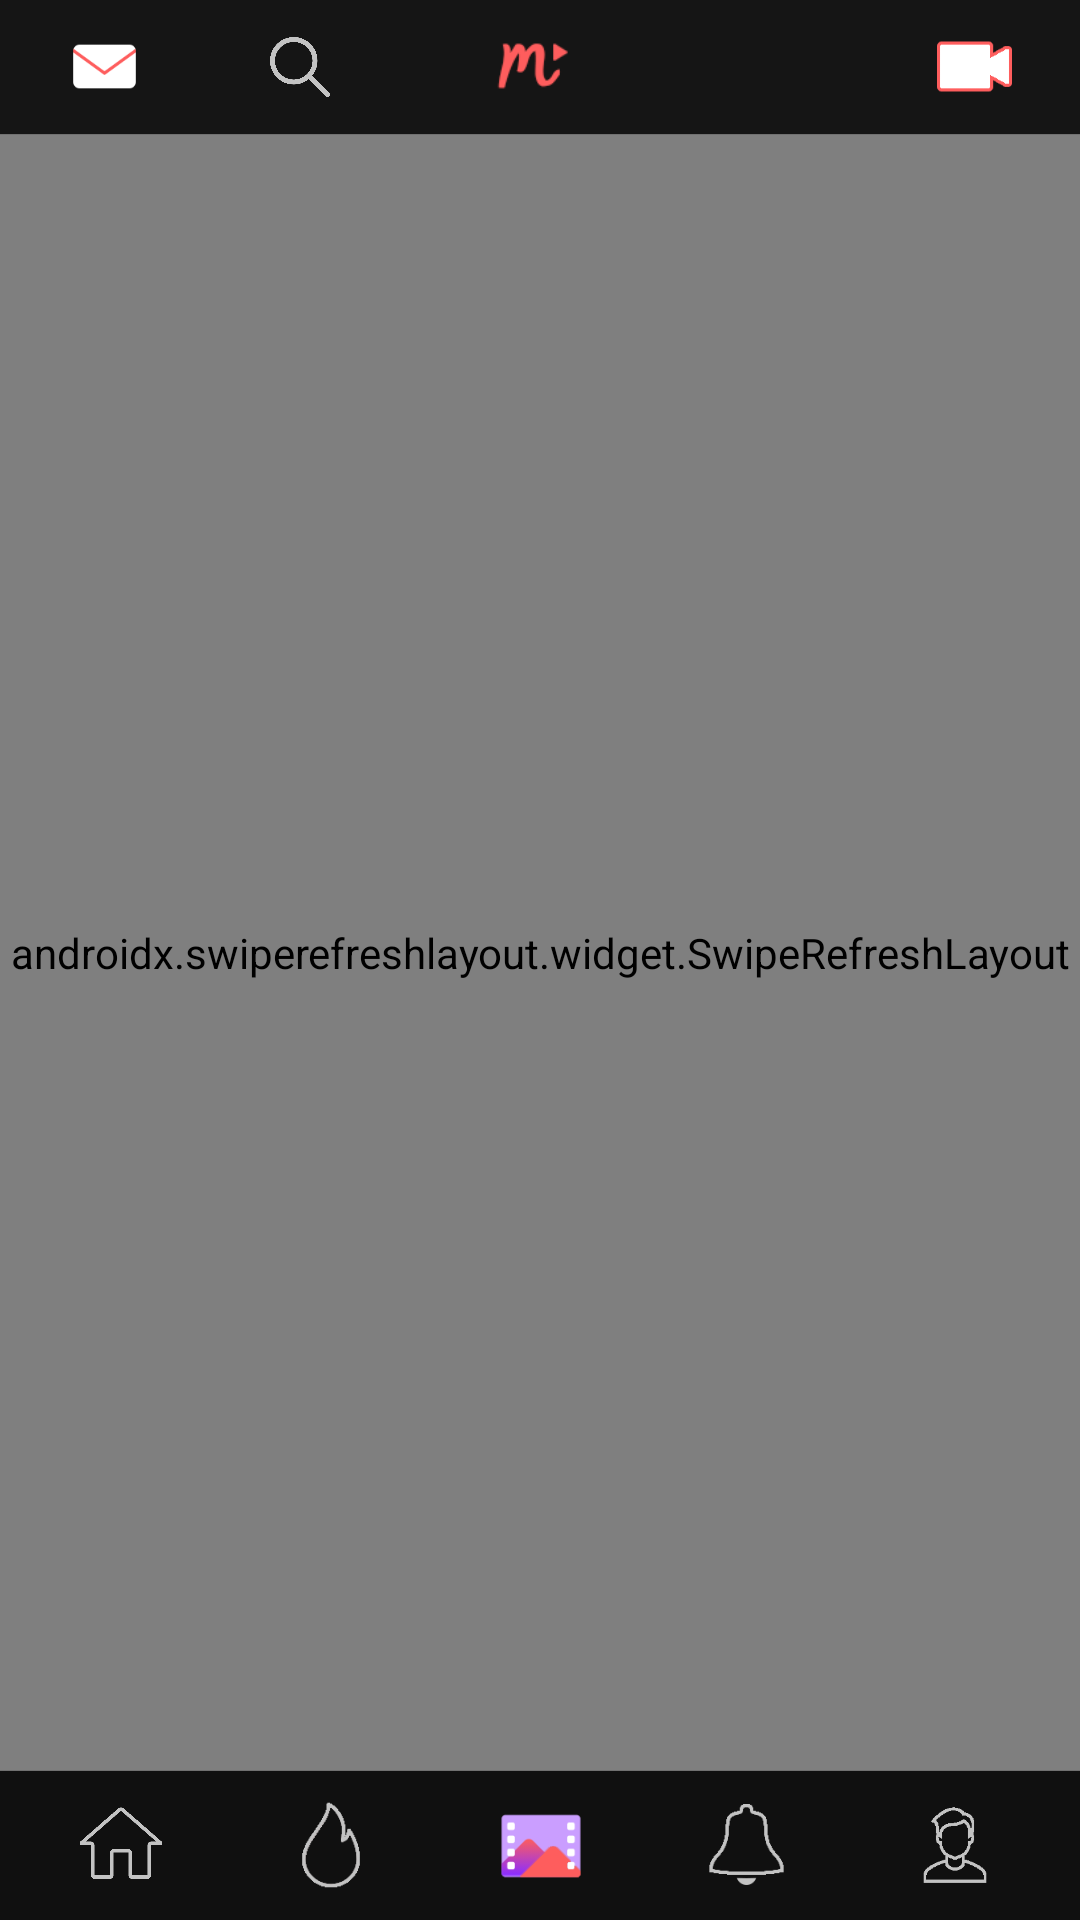

Icons on this 1080px x 1920px Android screen, each with the point to tap as (x=x, y=y):
camera: (x=974, y=66)
fire: (x=331, y=1845)
home: (x=121, y=1843)
messages: (x=104, y=66)
notifications: (x=746, y=1844)
profile: (x=955, y=1845)
search: (x=300, y=67)
video gallery: (x=541, y=1846)
